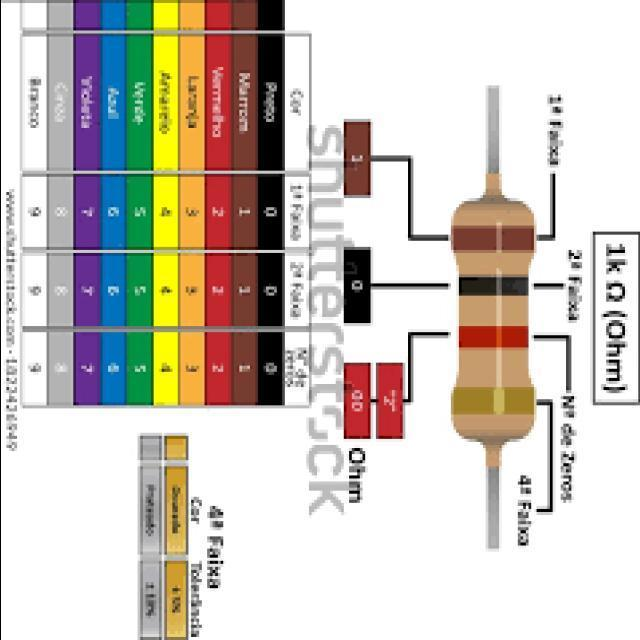Resistor: (451, 196, 535, 447)
black: (461, 276, 528, 296)
brown: (451, 225, 535, 252)
gold: (451, 386, 535, 415)
red: (458, 325, 530, 348)
